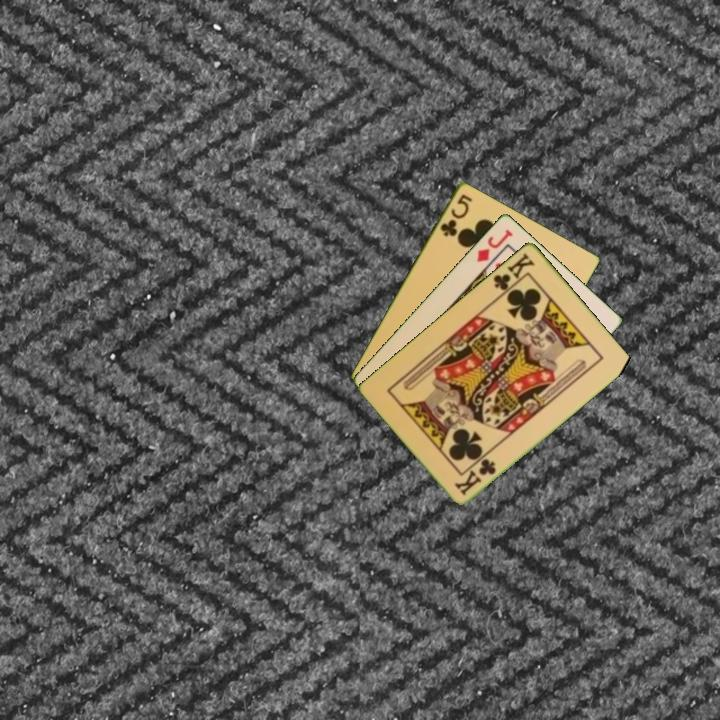5c: (436, 190, 475, 239)
Jd: (473, 225, 516, 265)
Kc: (489, 249, 538, 298), (451, 455, 499, 498)
